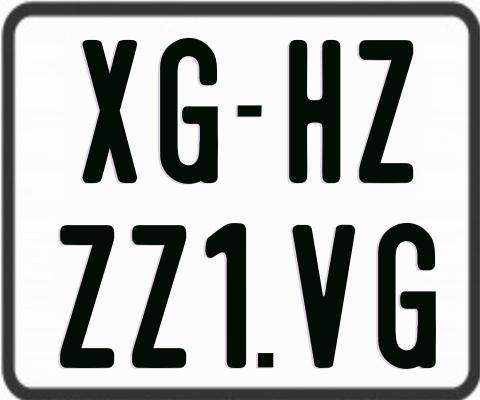1: (203, 222, 249, 367)
G: (158, 38, 221, 190), (377, 222, 436, 369)
H: (287, 40, 341, 187)
V: (291, 222, 354, 370)
X: (82, 37, 138, 184)
Z: (359, 40, 418, 188), (60, 223, 116, 370), (130, 224, 185, 367)
